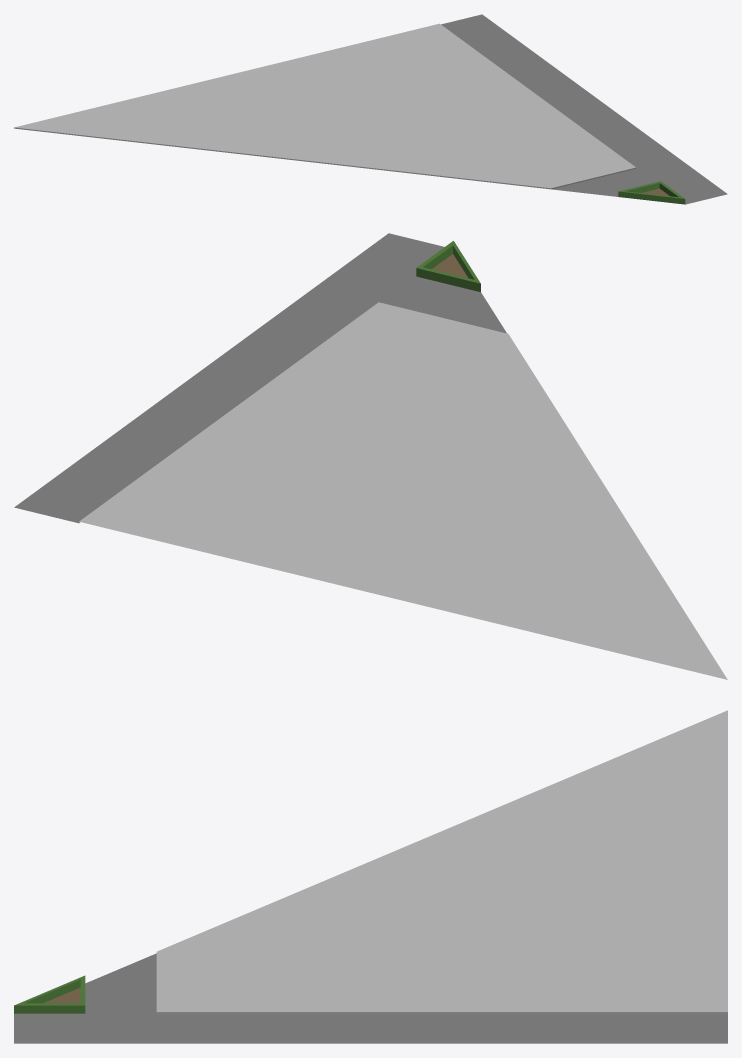
Rendered from chunk_market.glb.
3 renders of one model, top to bottom at view 1: azimuth 30°, elevation 25°; view 2: azimuth 150°, elevation 25°; view 3: azimuth 270°, elevation 25°, orthographic. The views are drawn at different scales.
Parts seen in each view (by area): view 1: Plane, Road; view 2: Plane, Road; view 3: Plane, Road.
Part boxes in pixels (x1,y1,x2,y2): Plane: (14, 23, 685, 204); Road: (441, 14, 727, 204); Plane: (79, 241, 727, 679); Road: (14, 233, 444, 523); Plane: (14, 710, 727, 1013); Road: (14, 1013, 727, 1043).
Size of what is drawn, in the model's own units: 44 by 0.5 by 40.
